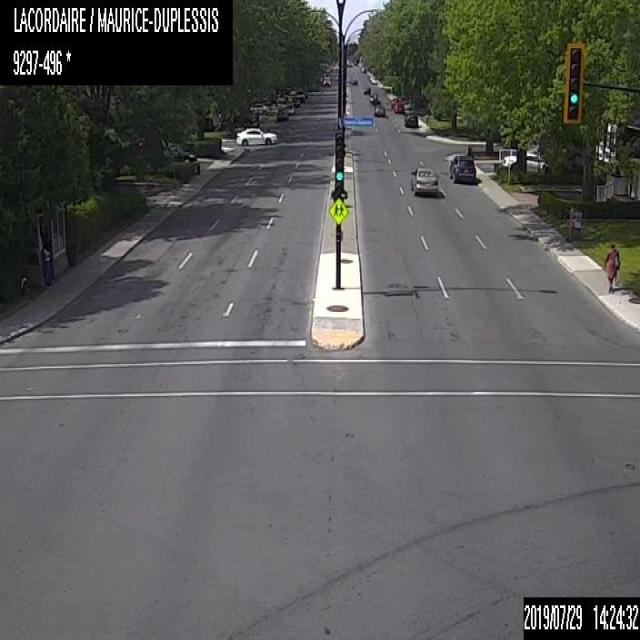pedestrian: (604, 242, 620, 290), (42, 242, 52, 284)
vehicle: (502, 152, 546, 172), (448, 152, 477, 181), (410, 166, 438, 196), (234, 125, 276, 144), (163, 146, 197, 163), (250, 102, 268, 114), (274, 105, 288, 120), (405, 112, 417, 127), (393, 102, 405, 114), (294, 90, 305, 102), (369, 90, 379, 103), (374, 103, 384, 116), (284, 102, 294, 114), (390, 96, 400, 108), (290, 96, 299, 105), (363, 84, 370, 93), (323, 76, 329, 86), (371, 76, 377, 83), (351, 77, 356, 85)
